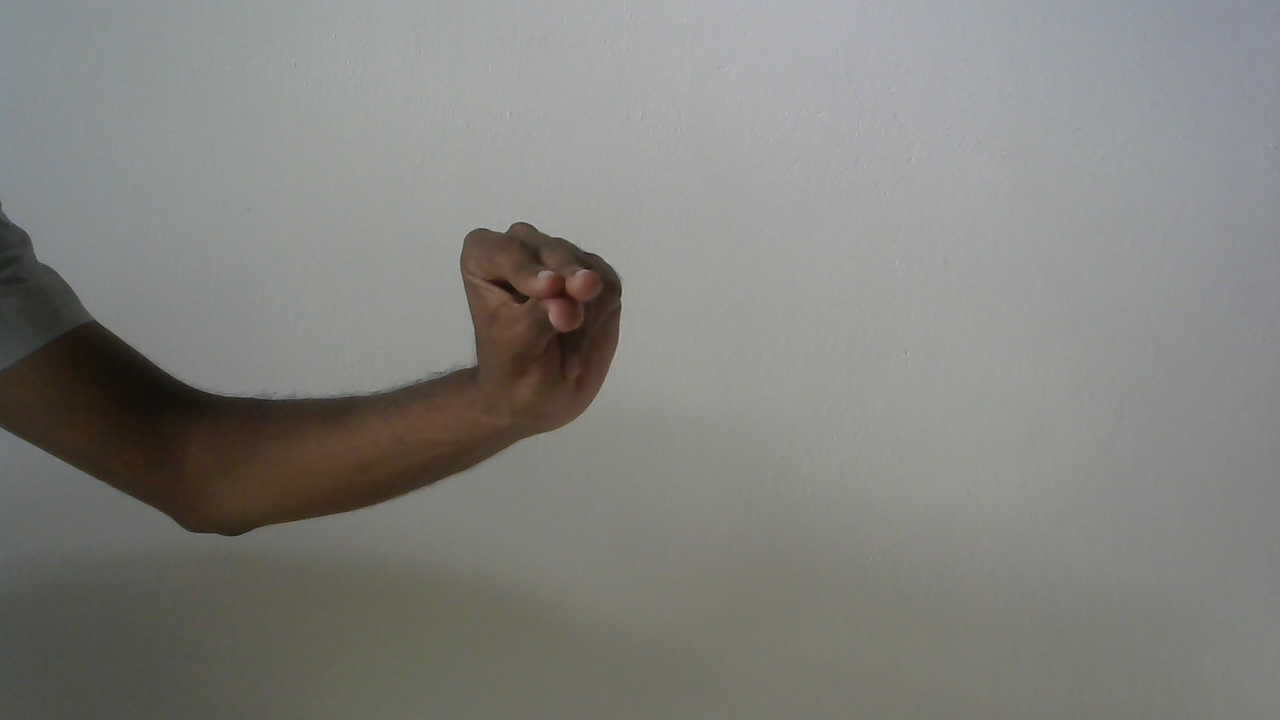no: (446, 206, 647, 463)
